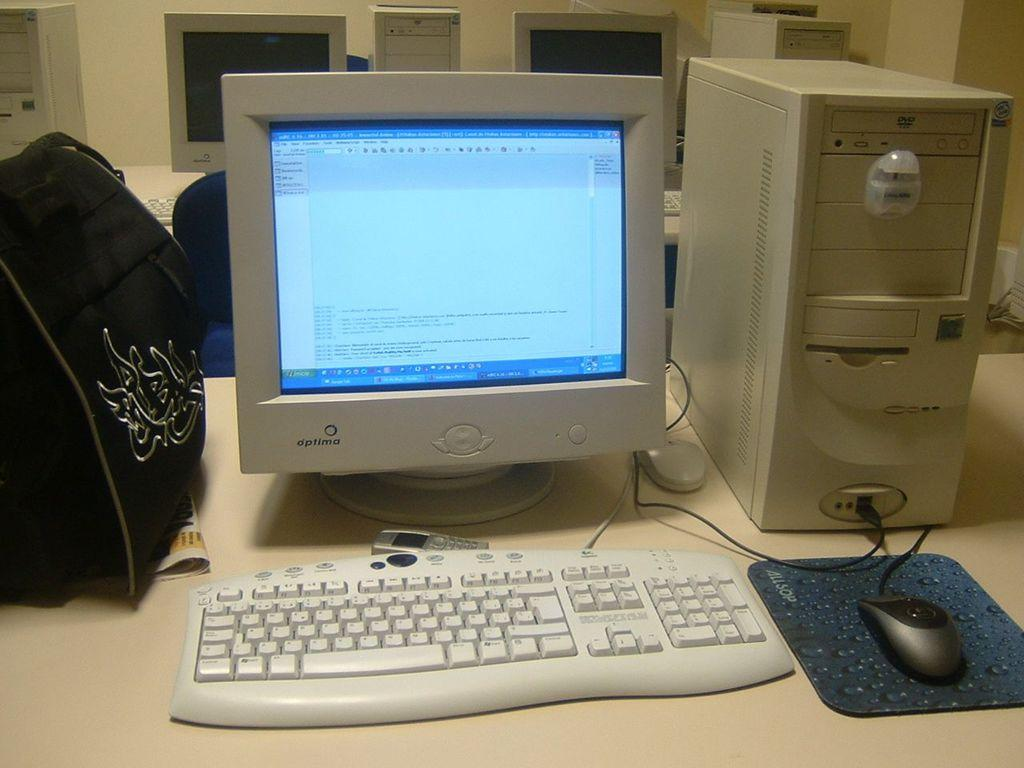Computer-mouse: (860, 582, 960, 677)
